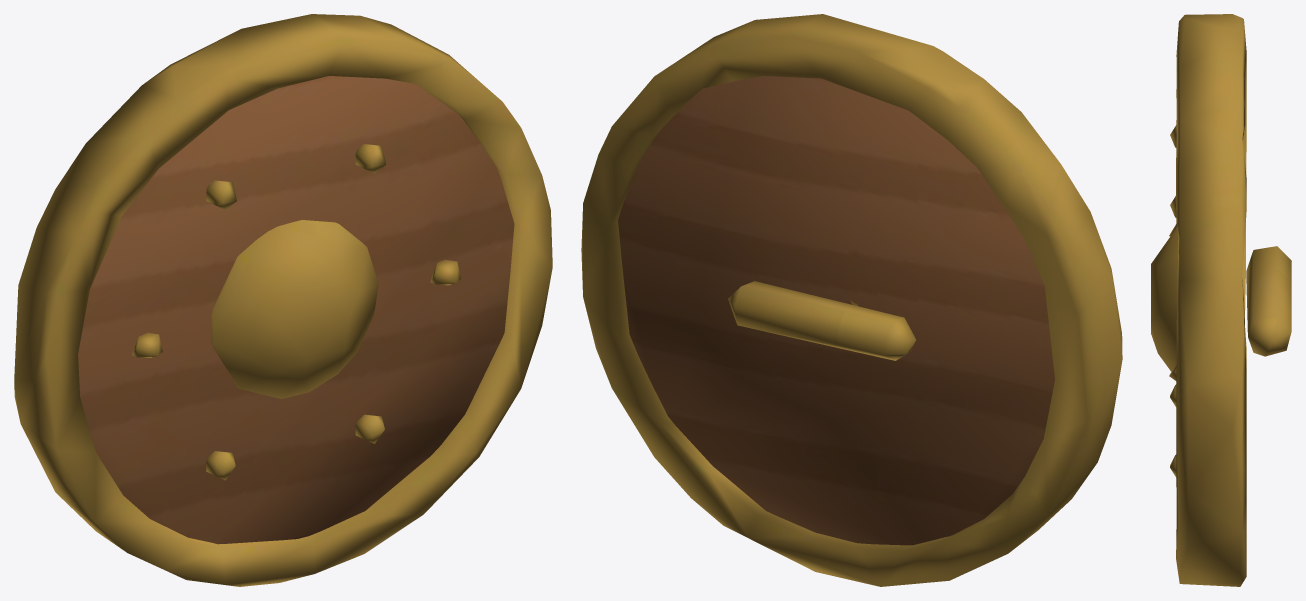
The model's file is gladiator-shield.glb.
3 renders of one model, left to right at view 1: azimuth 30°, elevation 25°; view 2: azimuth 150°, elevation 25°; view 3: azimuth 270°, elevation 25°, orthographic. The views are drawn at different scales.
Parts seen in each view (by area): view 1: shield-bronze; view 2: shield-bronze; view 3: shield-bronze.
Part boxes in pixels (x1=…): shield-bronze: x1=14, y1=14, x2=552, y2=586; shield-bronze: x1=581, y1=14, x2=1122, y2=586; shield-bronze: x1=1151, y1=14, x2=1291, y2=586.
Size of the model in its own units: 0.2599 by 0.2572 by 0.0636.
Materials: 1 (1 with a texture image).
